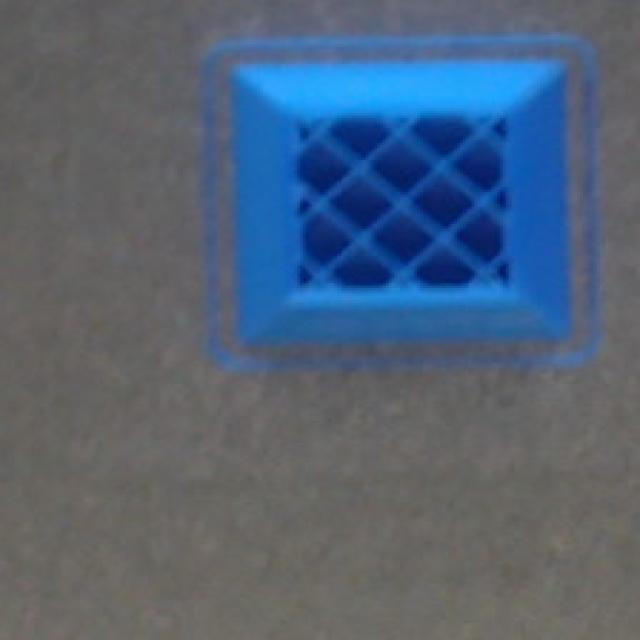noMistake: (206, 37, 594, 364)
